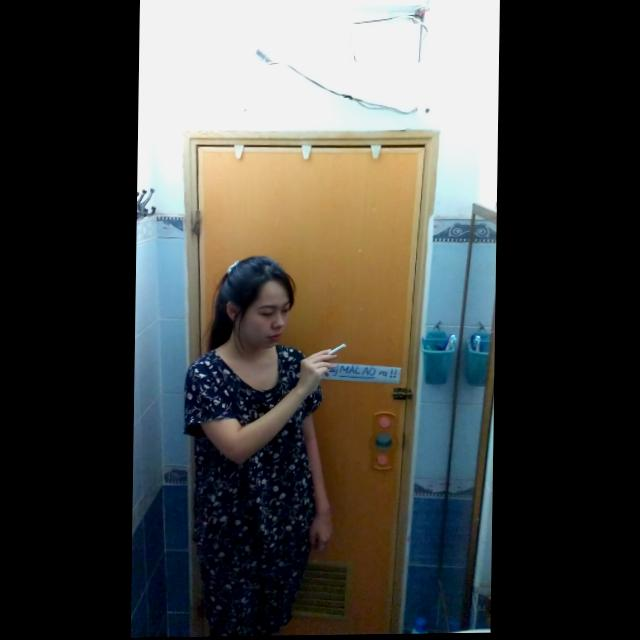cigarette: (329, 344, 347, 356)
